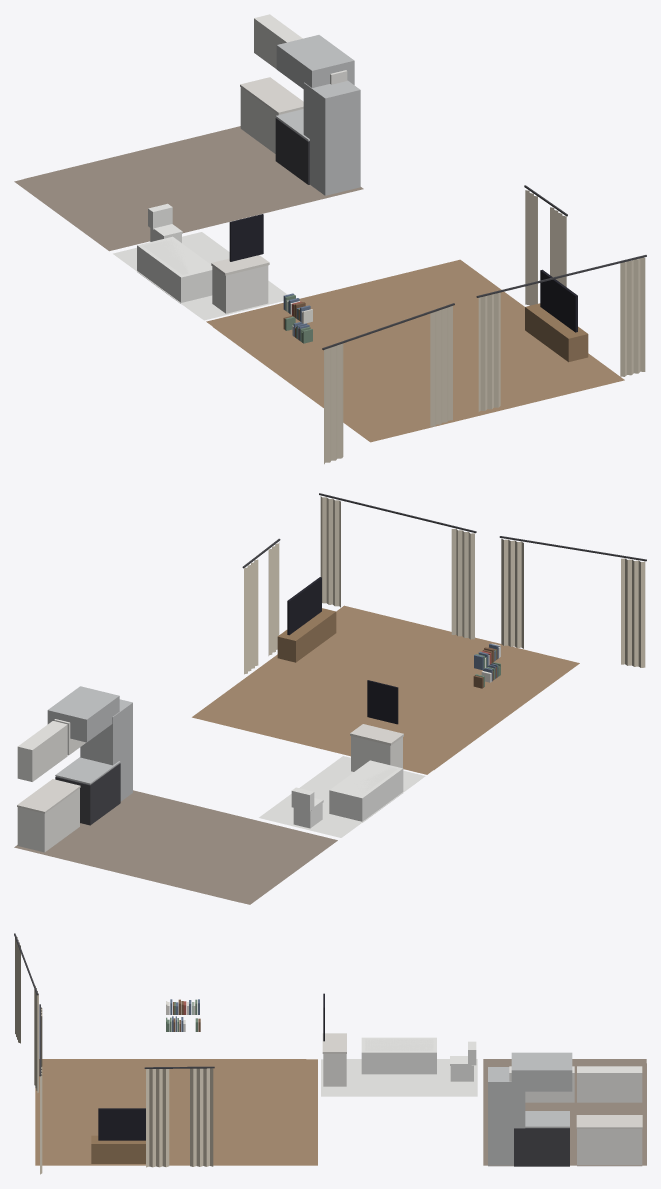
File: fine-s1.glb
3 views of the same model, one above another, from view 1: azimuth 30°, elevation 25°; view 2: azimuth 150°, elevation 25°; view 3: azimuth 270°, elevation 25° (orthographic). The views are drawn at different scales.
Parts seen in each view (by area): view 1: soft-s1, fridge.000, range.000, vanity.000, bathtub.000, tv-console.001, counter-run.000, kitchen-upper.000, toilet.000; view 2: soft-s1, range.000, counter-run.000, bathtub.000, vanity.000, tv-console.001, fridge.000, kitchen-upper.000, toilet.000; view 3: soft-s1, range.000, counter-run.000, fridge.000, tv-console.001, bathtub.000, kitchen-upper.000, vanity.000, toilet.000, kitchen-upper.001.
Boxes of the visible parts, bbox=[...] form: soft-s1: bbox=[14, 126, 646, 464]; fridge.000: bbox=[303, 80, 360, 195]; range.000: bbox=[275, 35, 354, 184]; vanity.000: bbox=[211, 214, 269, 313]; bathtub.000: bbox=[137, 236, 212, 303]; tv-console.001: bbox=[525, 269, 588, 362]; counter-run.000: bbox=[240, 77, 303, 153]; kitchen-upper.000: bbox=[254, 14, 302, 68]; toilet.000: bbox=[148, 203, 182, 242]; soft-s1: bbox=[14, 493, 646, 904]; range.000: bbox=[47, 686, 120, 825]; counter-run.000: bbox=[17, 779, 80, 852]; bathtub.000: bbox=[329, 760, 403, 822]; vanity.000: bbox=[350, 680, 403, 771]; tv-console.001: bbox=[277, 577, 336, 662]; fridge.000: bbox=[80, 699, 132, 801]; kitchen-upper.000: bbox=[17, 721, 67, 781]; toilet.000: bbox=[291, 787, 323, 828]; soft-s1: bbox=[14, 933, 646, 1174]; range.000: bbox=[511, 1052, 572, 1166]; counter-run.000: bbox=[576, 1115, 642, 1166]; fridge.000: bbox=[488, 1067, 525, 1166]; tv-console.001: bbox=[91, 1108, 145, 1163]; bathtub.000: bbox=[361, 1037, 436, 1074]; kitchen-upper.000: bbox=[577, 1066, 642, 1102]; vanity.000: bbox=[322, 993, 346, 1086]; toilet.000: bbox=[450, 1041, 476, 1081]; kitchen-upper.001: bbox=[509, 1066, 574, 1102].
Bounding box in the file's own units: 7.19 × 2.41 × 13.57.
